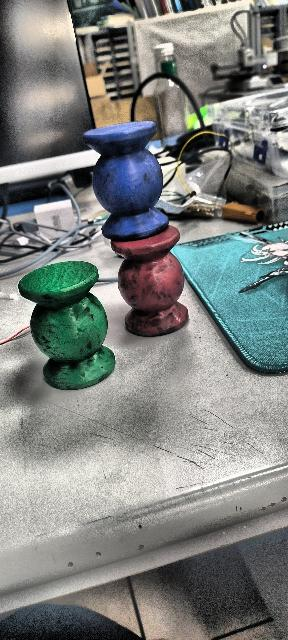blue: (83, 120, 170, 240)
green: (20, 263, 115, 388)
red: (108, 224, 190, 339)
